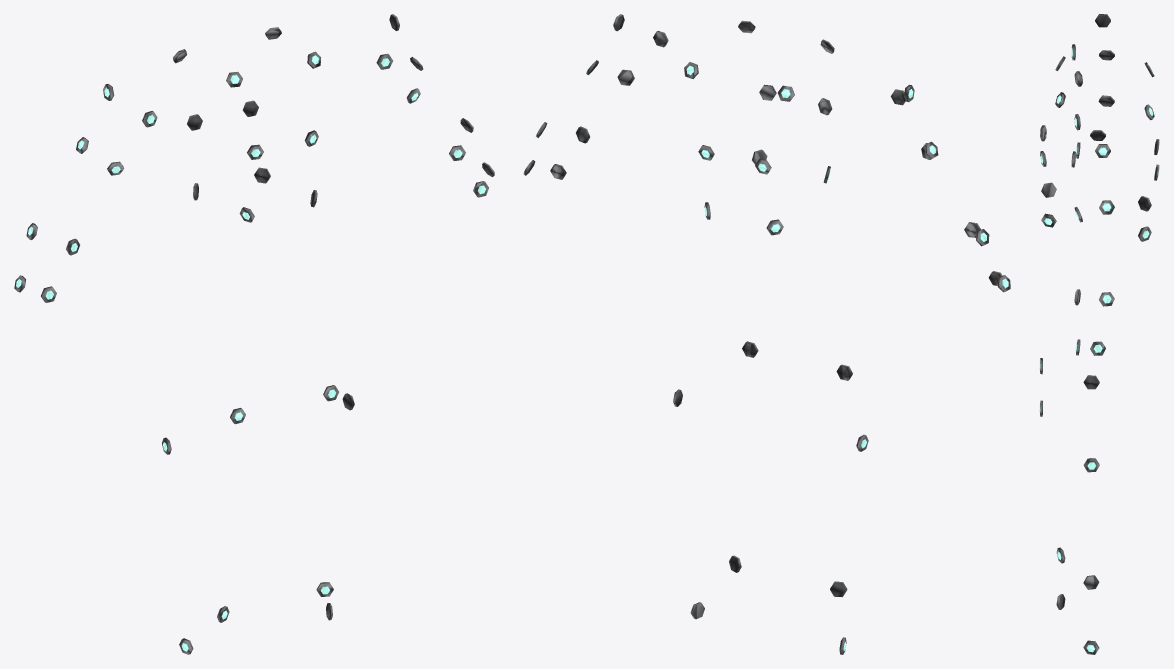
File: tc4_thermoptic_shroud.gltf
The picture shows the model from 3 angles, left to right: view 1: azimuth 30°, elevation 25°; view 2: azimuth 150°, elevation 25°; view 3: azimuth 270°, elevation 25°; orthographic projection. The views are drawn at different scales.
Parts seen in each view (by area): view 1: B_chest__tc4_thermoptic_shroud, B_upper_arm_R__tc4_thermoptic_shroud, B_forearm_R__tc4_thermoptic_shroud; view 2: B_chest__tc4_thermoptic_shroud; view 3: B_chest__tc4_thermoptic_shroud, B_spine__tc4_thermoptic_shroud, B_forearm_L__tc4_thermoptic_shroud, B_upper_arm_L__tc4_thermoptic_shroud, B_upper_arm_R__tc4_thermoptic_shroud, B_forearm_R__tc4_thermoptic_shroud, B_shin_L__tc4_thermoptic_shroud, B_shin_R__tc4_thermoptic_shroud, B_thigh_R__tc4_thermoptic_shroud, B_thigh_L__tc4_thermoptic_shroud.
Boxes of the visible parts, x1=… form: B_chest__tc4_thermoptic_shroud: x1=173, y1=27, x2=320, y2=159; B_upper_arm_R__tc4_thermoptic_shroud: x1=76, y1=84, x2=157, y2=175; B_forearm_R__tc4_thermoptic_shroud: x1=14, y1=223, x2=79, y2=302; B_chest__tc4_thermoptic_shroud: x1=684, y1=20, x2=834, y2=174; B_chest__tc4_thermoptic_shroud: x1=1040, y1=56, x2=1159, y2=180; B_spine__tc4_thermoptic_shroud: x1=1041, y1=182, x2=1151, y2=241; B_forearm_L__tc4_thermoptic_shroud: x1=1074, y1=289, x2=1114, y2=355; B_upper_arm_L__tc4_thermoptic_shroud: x1=1071, y1=144, x2=1114, y2=222; B_upper_arm_R__tc4_thermoptic_shroud: x1=1071, y1=14, x2=1114, y2=86; B_forearm_R__tc4_thermoptic_shroud: x1=1074, y1=95, x2=1114, y2=158; B_shin_L__tc4_thermoptic_shroud: x1=1056, y1=594, x2=1099, y2=654; B_shin_R__tc4_thermoptic_shroud: x1=1056, y1=547, x2=1099, y2=589; B_thigh_R__tc4_thermoptic_shroud: x1=1039, y1=358, x2=1099, y2=389; B_thigh_L__tc4_thermoptic_shroud: x1=1039, y1=400, x2=1099, y2=472.
Bounding box in the file's own units: 1.02 × 1.2 × 0.2389.
1 material, 1 textured.
